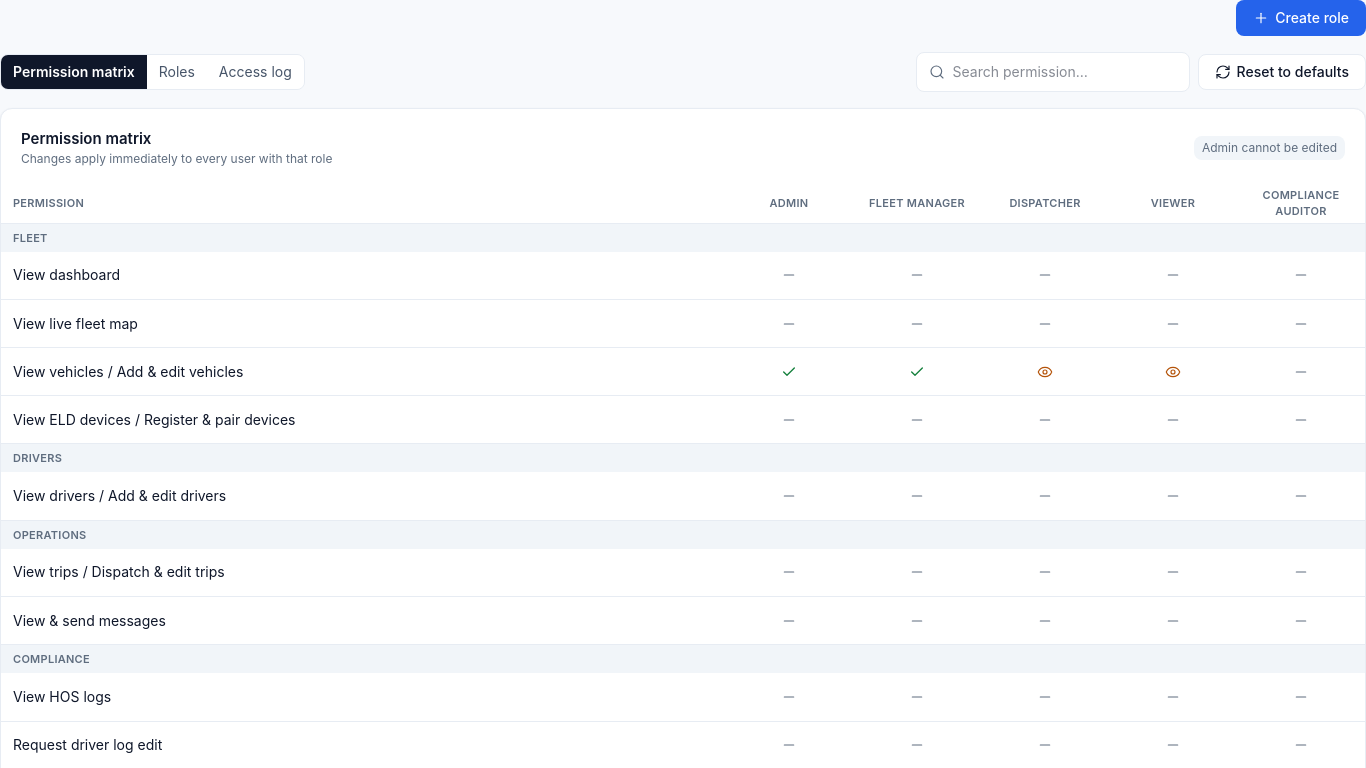
Test: RolesPage — stage-2 › Reset to defaults confirms, then PATCHes the three editable built-in roles only
Expected: the search field labelled "Search permission" is shown, [953,62,1177,82]
Click the button "Reset to defaults" at (1282, 72), box [1198,54,1365,90]
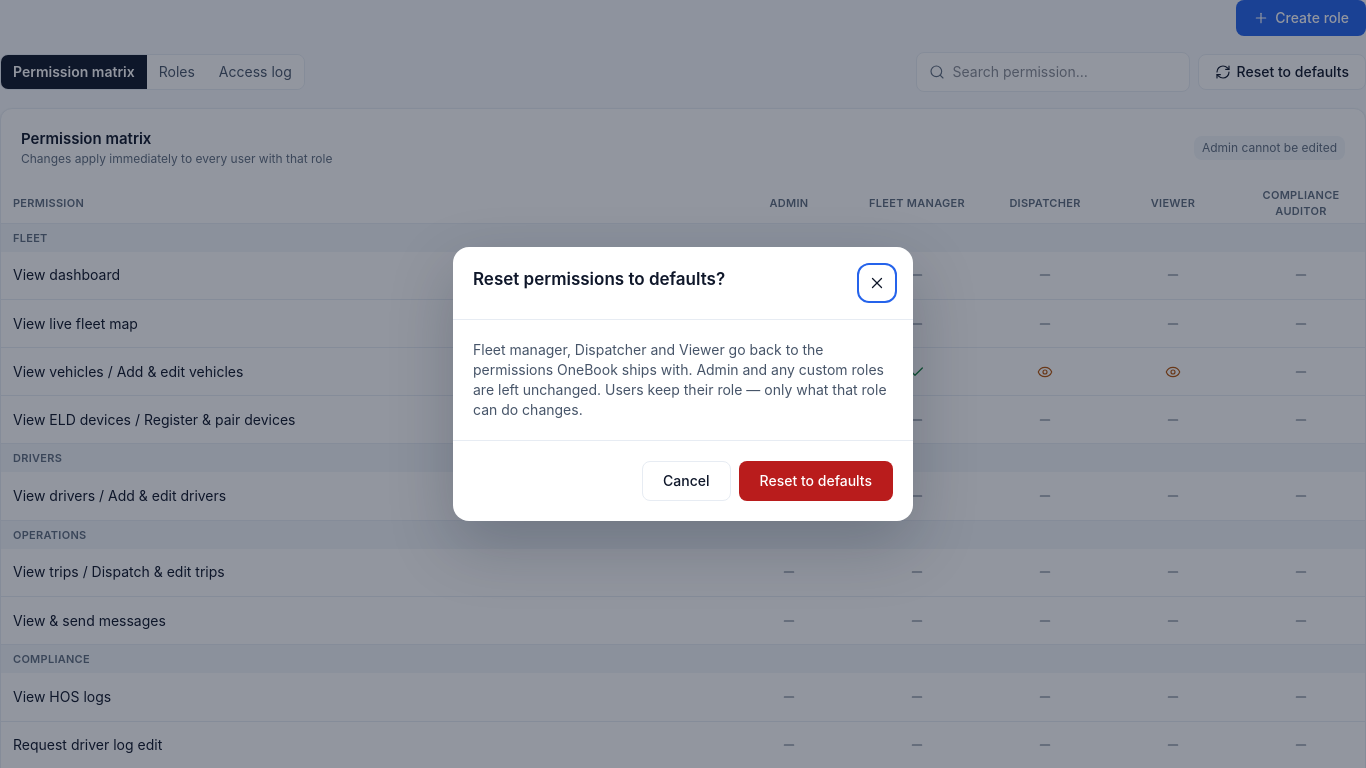
Expected: the heading "Reset permissions to defaults?" is shown, [473,267,725,291]
Click the button "Reset to defaults" at (816, 481), box [739,461,893,501]
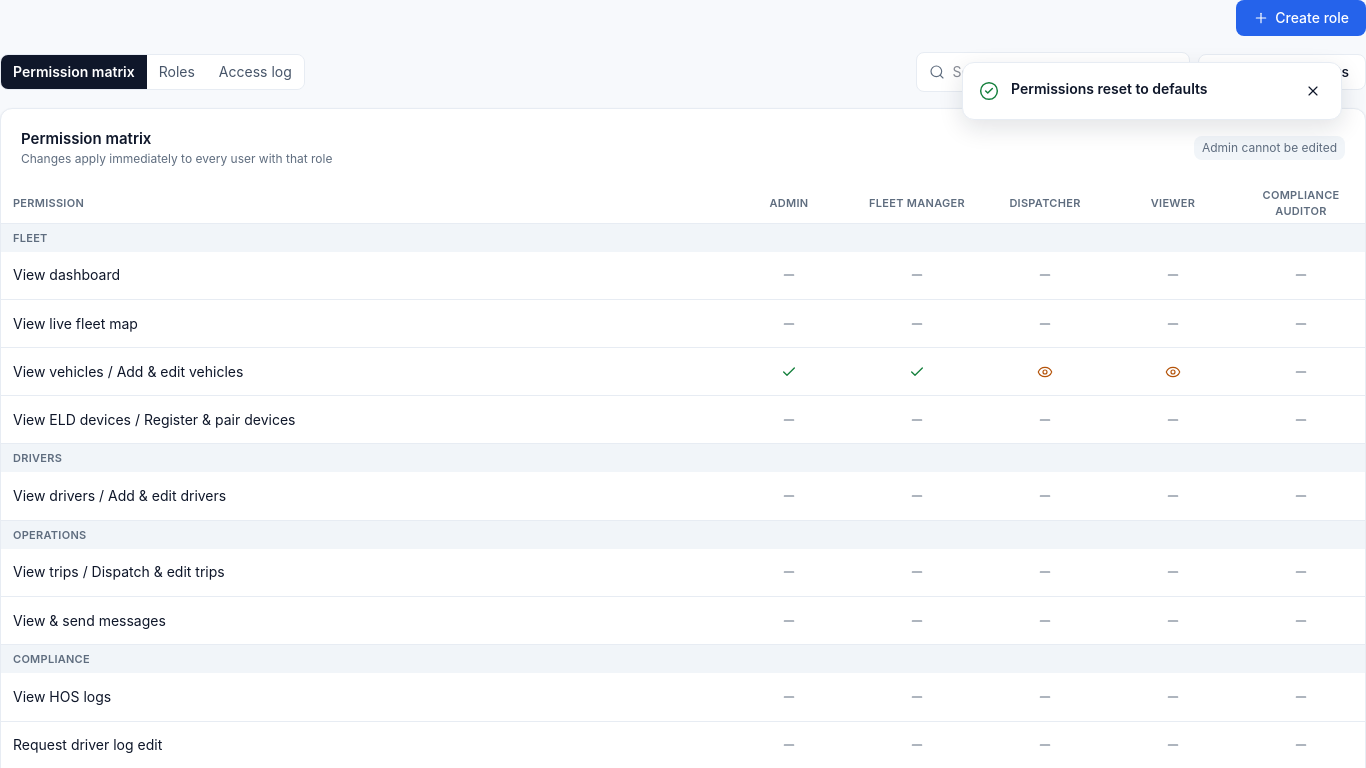
Expected: the text "Permissions reset to defaults" is shown, [1011,80,1208,97]
